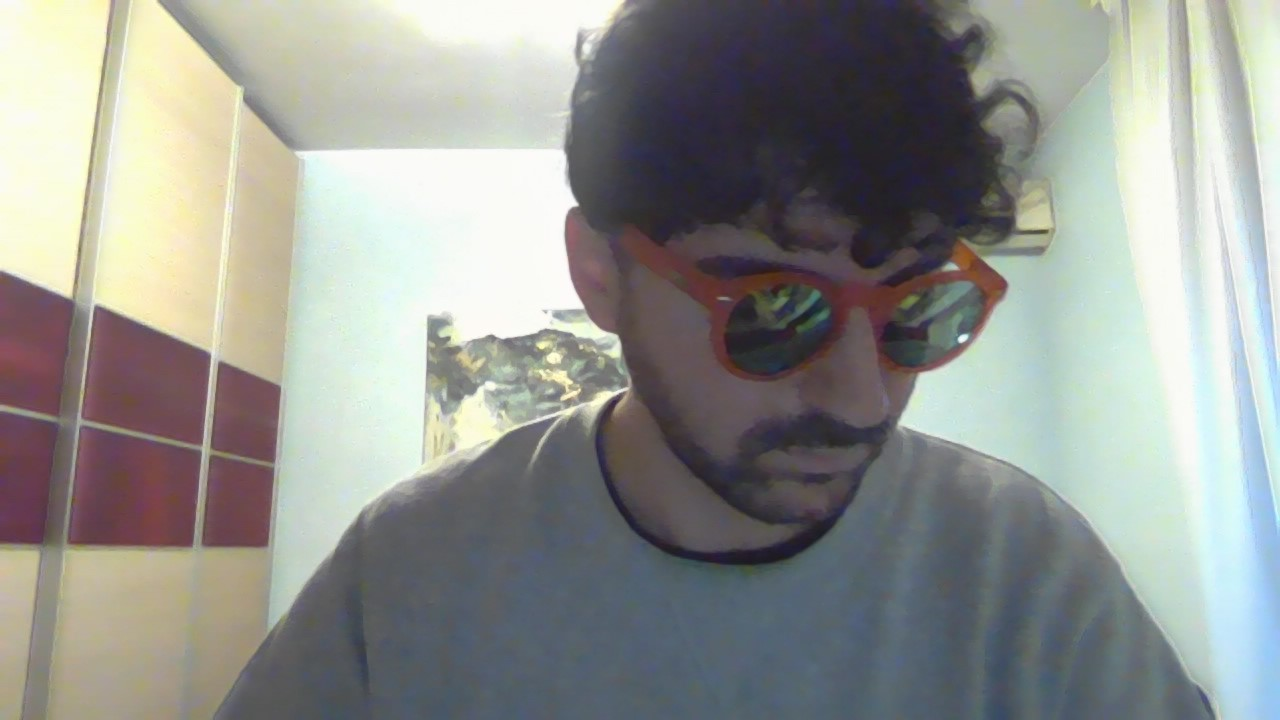Glasses: (578, 208, 1020, 385)
